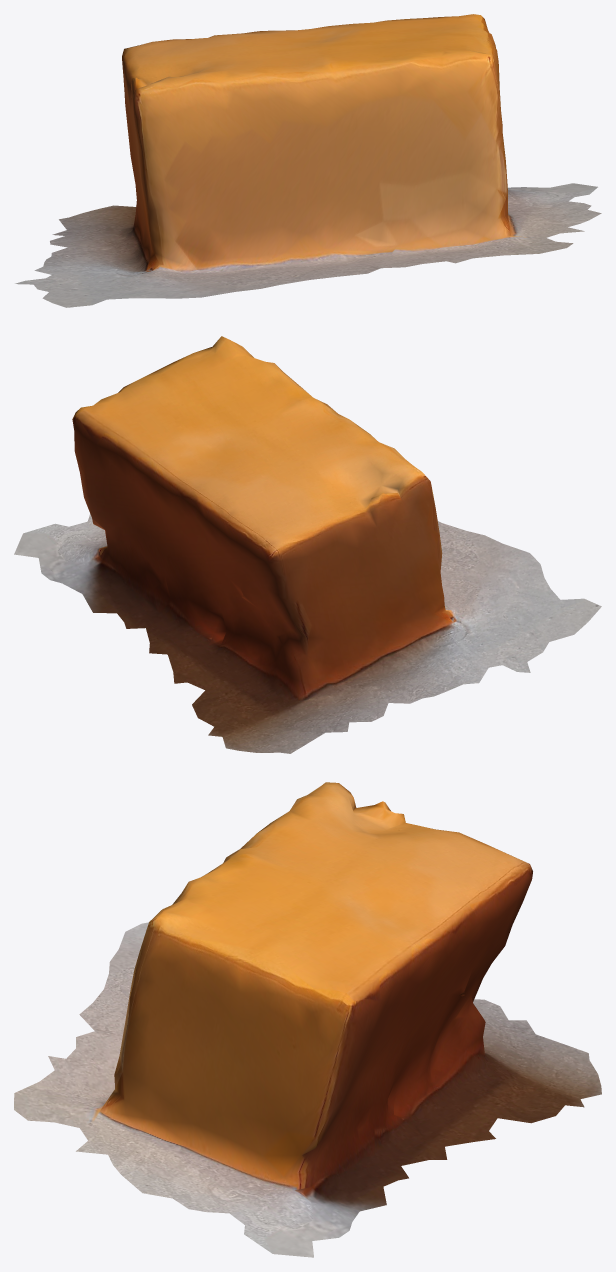
The model's file is gltf.gltf.
3 renders of one model, top to bottom at view 1: azimuth 30°, elevation 25°; view 2: azimuth 150°, elevation 25°; view 3: azimuth 270°, elevation 25°, orthographic. The views are drawn at different scales.
Parts seen in each view (by area): view 1: 3d; view 2: 3d; view 3: 3d.
Part boxes in pixels (<box>): 3d: <box>15,14,601,307</box>; 3d: <box>14,336,601,753</box>; 3d: <box>14,782,601,1257</box>.
Size of the model in its own units: 11.71 by 4.81 by 8.88.
1 material, 1 textured.
